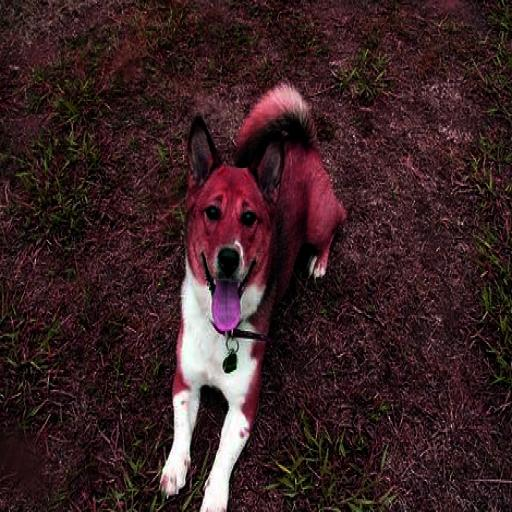dog_face: (180, 123, 283, 316)
